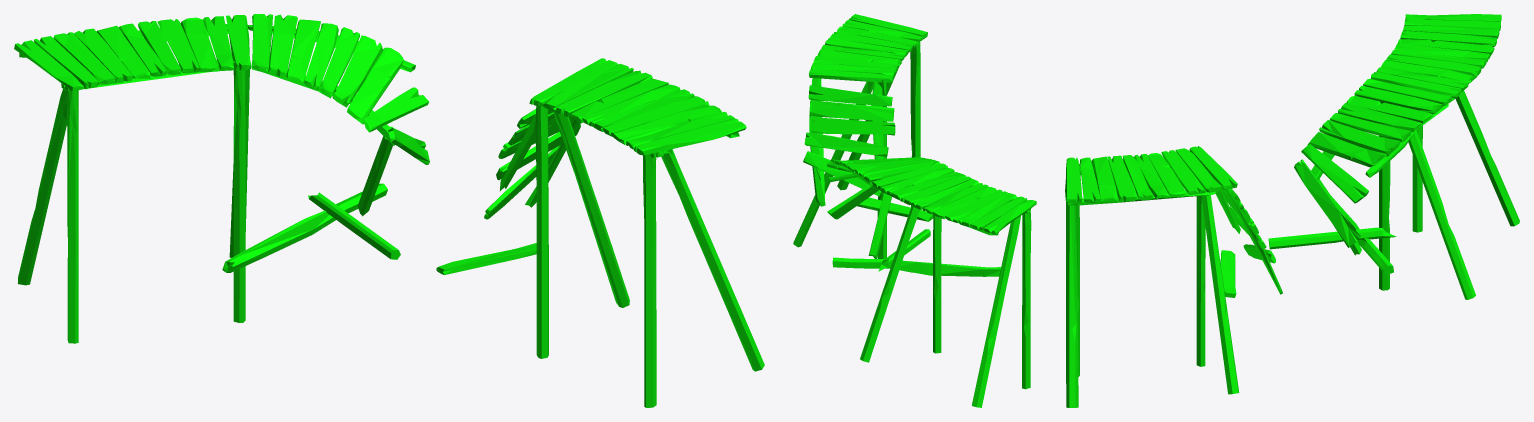
Rendered from SM_Palisade_Gallery_Corner_Round_9x9_Convex_A_Broken.fbx.
3 views of the same model, side by side, from view 1: azimuth 30°, elevation 25°; view 2: azimuth 150°, elevation 25°; view 3: azimuth 270°, elevation 25° (orthographic). The views are drawn at different scales.
Parts seen in each view (by area): view 1: palisade-gallery-corner-round-9x9-convex-a-broken; view 2: palisade-gallery-corner-round-9x9-convex-a-broken; view 3: palisade-gallery-corner-round-9x9-convex-a-broken.
Boxes of the visible parts, bbox=[...] form: palisade-gallery-corner-round-9x9-convex-a-broken: bbox=[14, 14, 764, 407]; palisade-gallery-corner-round-9x9-convex-a-broken: bbox=[793, 14, 1036, 407]; palisade-gallery-corner-round-9x9-convex-a-broken: bbox=[1065, 14, 1519, 407].
Bounding box in the file's own units: 9.41 × 4.85 × 9.34.
